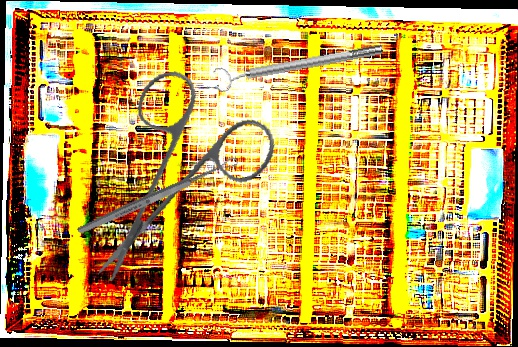Fixation Ring: (211, 37, 386, 94)
Iris Scissors: (60, 55, 296, 284)
Surgical Spoon: (75, 155, 240, 237)
